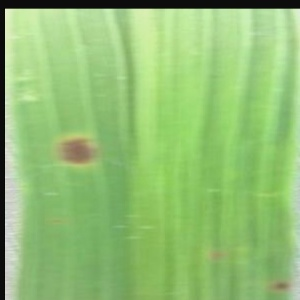Bacterial_Leaf_Blight: (45, 124, 109, 177), (270, 273, 295, 298), (205, 247, 230, 266)
